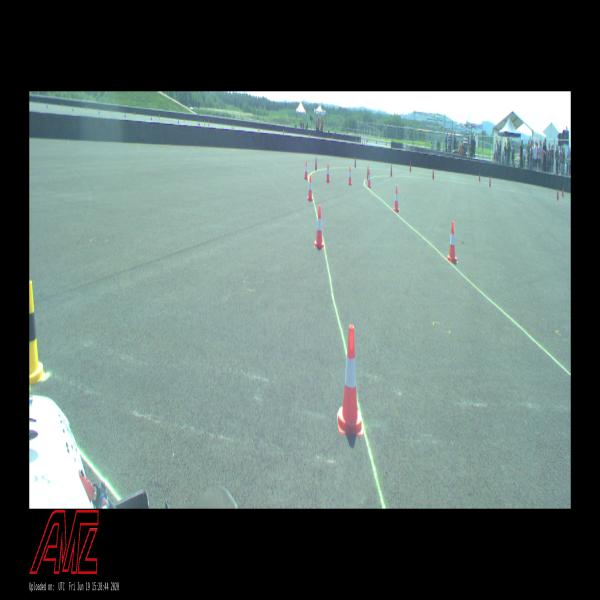orange_cone: (337, 326, 363, 436), (314, 206, 324, 249), (448, 222, 458, 263), (307, 175, 313, 201), (394, 186, 400, 212), (348, 167, 352, 186), (367, 169, 371, 188), (304, 160, 308, 179), (326, 164, 330, 182)
yellow_cone: (30, 280, 44, 385)
